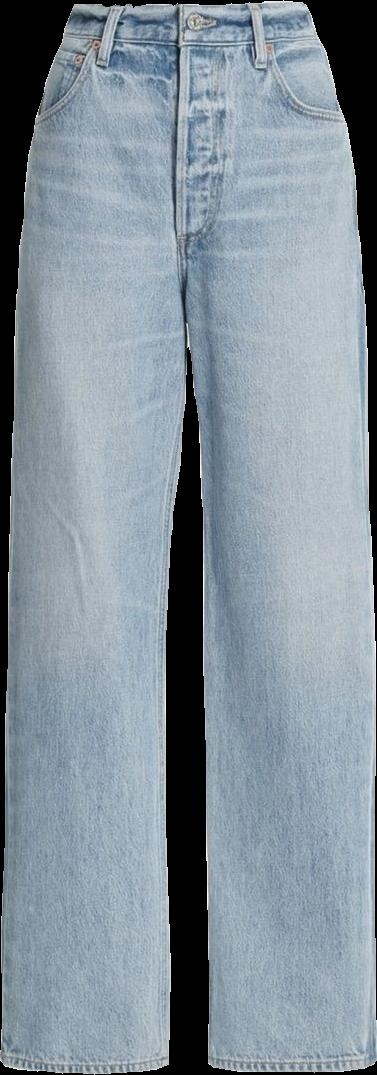Hemline: (1, 1053, 170, 1074), (204, 1055, 376, 1074)
Pantleg: (176, 2, 376, 1071), (1, 4, 185, 1071)
Waistline: (60, 27, 321, 53), (69, 0, 303, 19)
